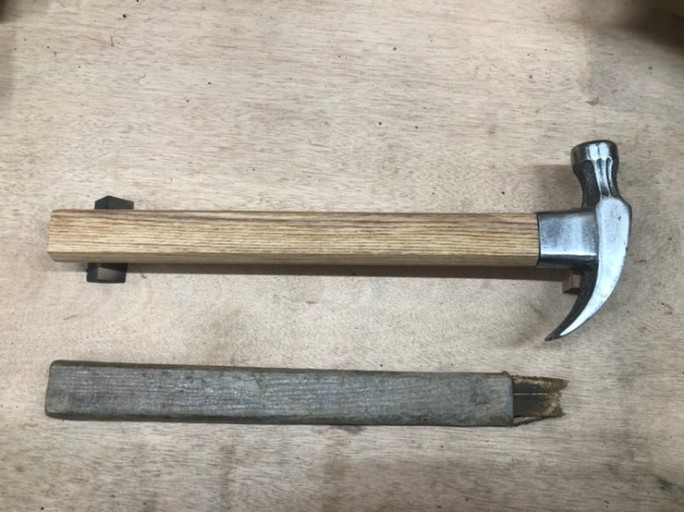hammer: (24, 135, 646, 344), (44, 356, 603, 427)
